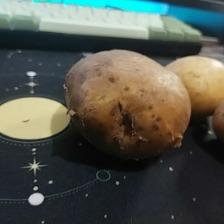Damaged potato: (65, 50, 191, 167)
Potato: (164, 54, 223, 118)
